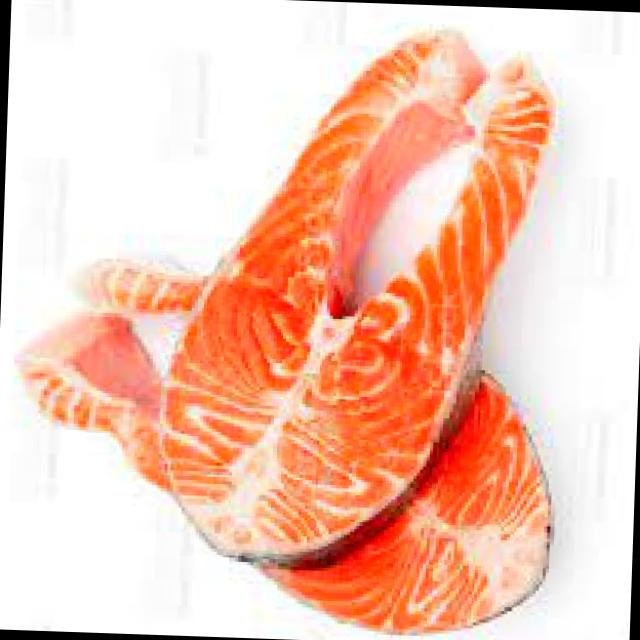Fish: (143, 46, 564, 571), (17, 282, 555, 640)
